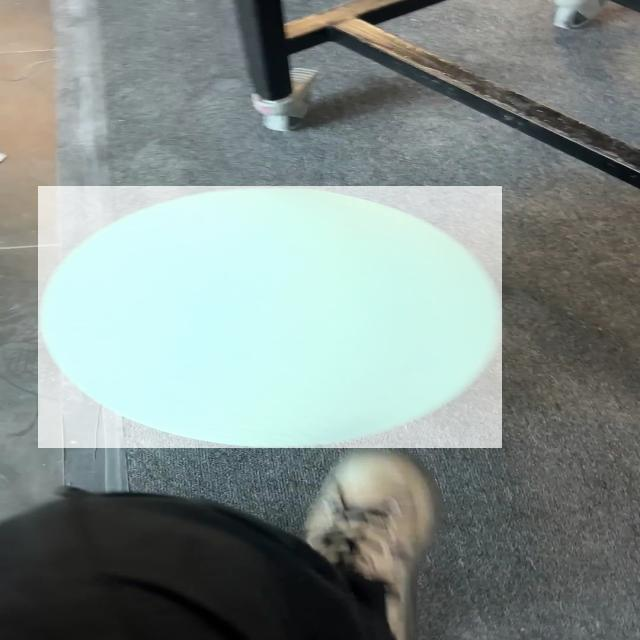Algae: (38, 186, 502, 448)
